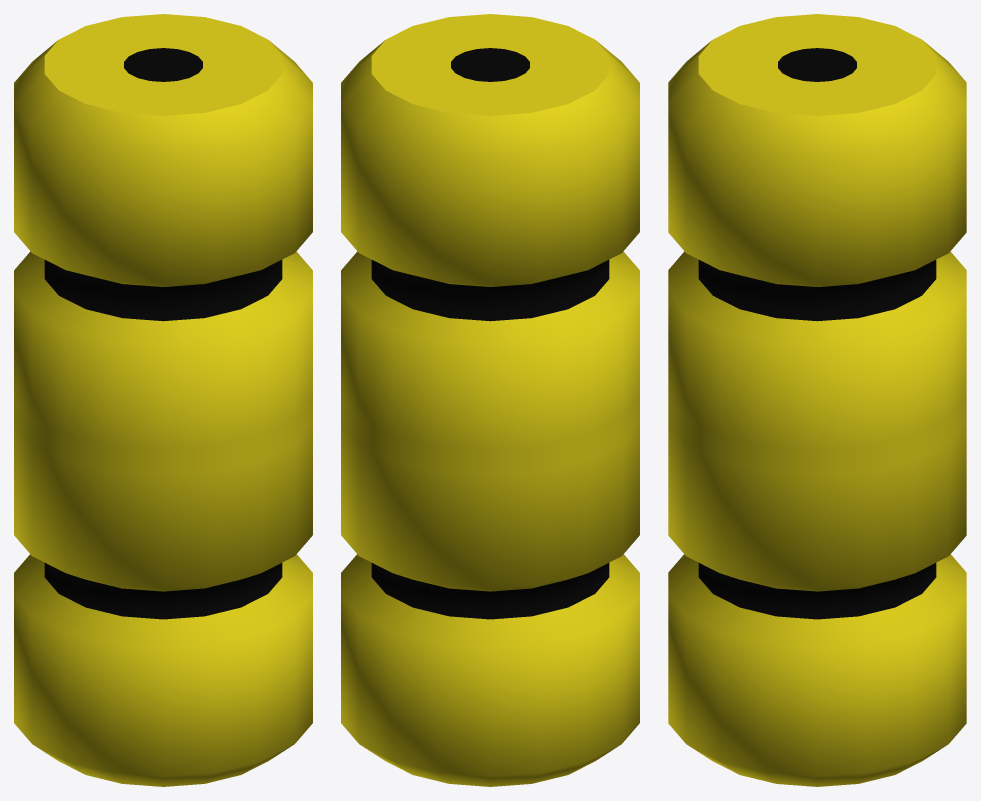
The model's file is tubo.FBX.
3 views of the same model, side by side, from view 1: azimuth 30°, elevation 25°; view 2: azimuth 150°, elevation 25°; view 3: azimuth 270°, elevation 25° (orthographic).
Parts seen in each view (by area): view 1: Cylinder001; view 2: Cylinder001; view 3: Cylinder001.
Part boxes in pixels (x1,y1,x2,y2): Cylinder001: (14, 14, 312, 786); Cylinder001: (341, 14, 639, 786); Cylinder001: (668, 14, 966, 786).
Size of the model in its own units: 35.89 by 87.61 by 35.35.
